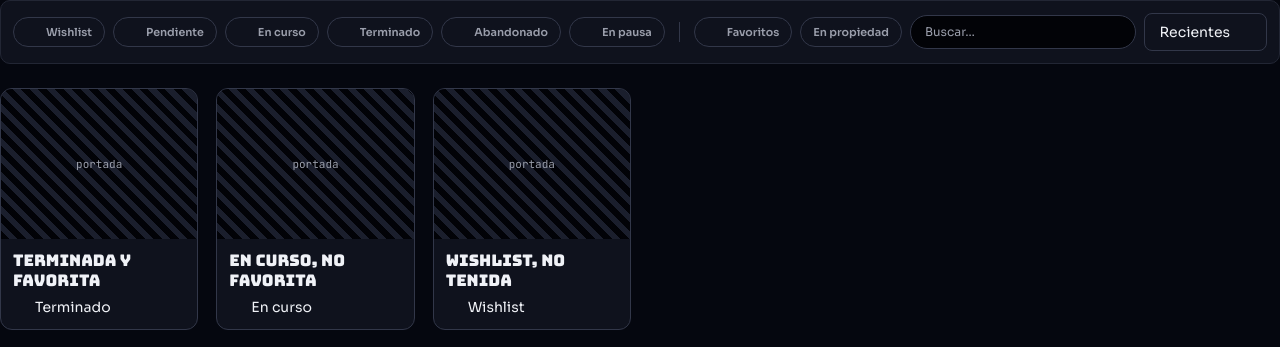
Test: CategoryWorksBrowser › filters by favourite only when the favourite chip is pressed
The image size is (1280, 347).
Click the button "Favoritos": point(743, 32) [694,17,792,47]
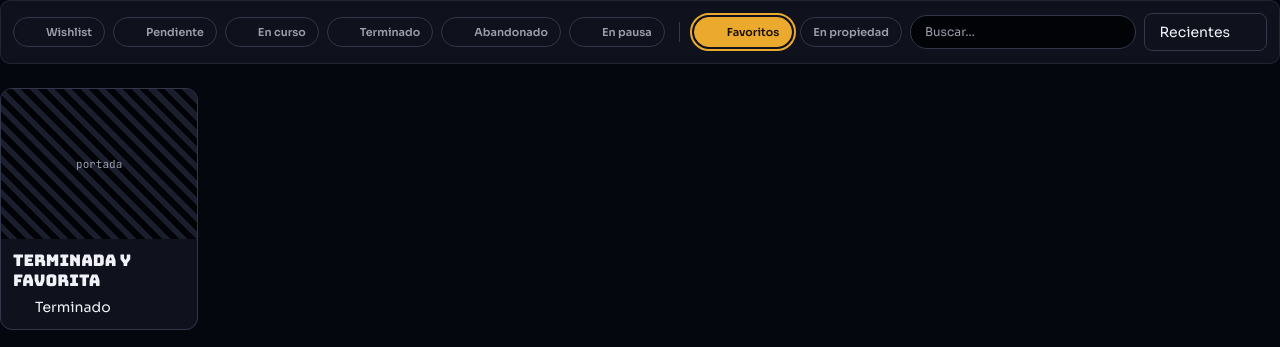
Expected: the text "Terminada y favorita" is shown, [13,250,131,291]
Now the link "En curso, no favorita" is gone
